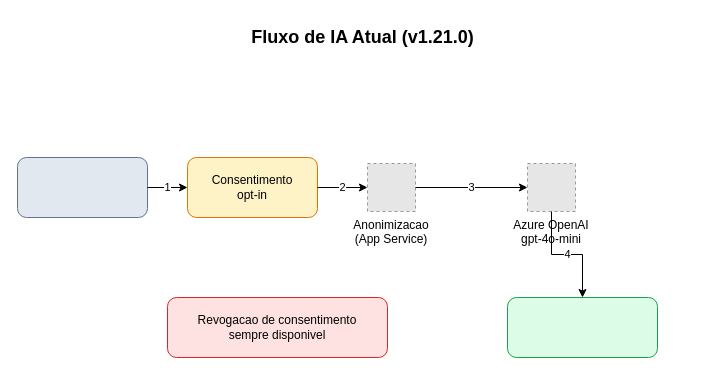
This 725x375 diagram has some shape labels left out. Grey dashed boxes stand in for pictures. The box of each missing label's shape, as (x1, y1, x2, y2) in pixels:
Resumo e orientacoes: (506, 296, 658, 358)
Texto do usuario: (16, 156, 148, 218)
